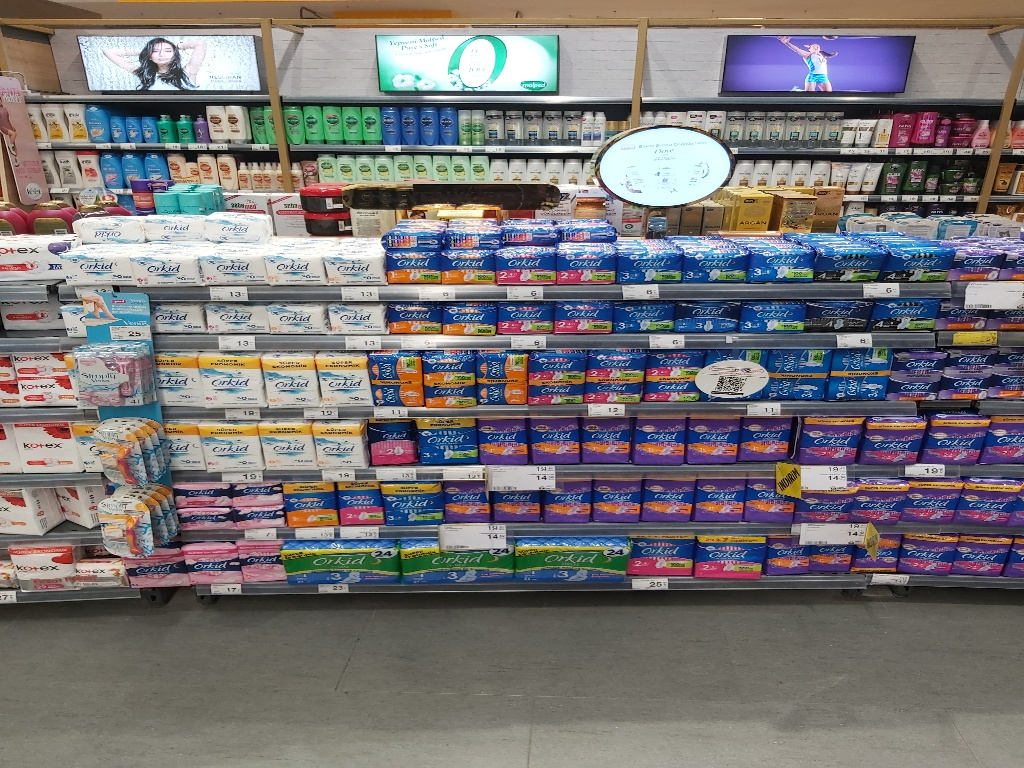urun: (276, 540, 394, 588), (399, 539, 517, 586), (504, 535, 622, 582), (69, 344, 151, 407), (78, 431, 160, 494), (87, 495, 169, 558), (200, 347, 266, 408), (312, 413, 370, 474), (410, 413, 476, 466), (630, 530, 696, 582), (698, 534, 764, 586), (314, 344, 372, 401), (260, 351, 319, 407), (884, 239, 959, 283), (611, 248, 685, 292), (740, 239, 814, 283), (812, 238, 886, 282), (865, 416, 931, 465), (259, 412, 320, 465), (924, 416, 989, 465), (676, 242, 750, 285), (200, 419, 261, 471), (792, 415, 858, 463), (904, 526, 959, 581), (960, 531, 1021, 580), (767, 536, 858, 568), (183, 531, 238, 582), (56, 248, 134, 283), (122, 243, 200, 278), (186, 244, 264, 279), (152, 355, 201, 410), (640, 340, 696, 388), (685, 416, 739, 465), (529, 343, 585, 390), (590, 342, 646, 389), (739, 417, 792, 466), (206, 296, 269, 337), (265, 289, 328, 330), (742, 293, 805, 334), (806, 296, 869, 337), (878, 291, 941, 332), (486, 476, 543, 521), (532, 477, 589, 522), (586, 477, 643, 522), (847, 472, 904, 517), (616, 291, 678, 332), (675, 293, 737, 334), (433, 479, 489, 524), (741, 475, 797, 520), (795, 472, 851, 517), (901, 477, 957, 522), (691, 474, 748, 518), (966, 474, 1023, 518), (387, 483, 443, 527), (635, 474, 691, 518), (494, 298, 552, 339), (554, 288, 612, 329), (581, 417, 635, 461), (159, 500, 228, 534), (388, 296, 445, 337), (443, 301, 500, 342), (474, 420, 527, 463), (529, 419, 582, 462), (634, 419, 687, 462), (161, 480, 230, 513), (159, 422, 201, 475), (315, 251, 379, 285), (380, 248, 442, 283), (221, 479, 283, 513), (552, 243, 611, 278), (493, 244, 552, 279), (442, 248, 500, 283), (326, 300, 387, 332), (369, 344, 420, 381), (276, 472, 334, 502), (280, 504, 338, 534), (227, 500, 284, 530), (765, 372, 833, 397), (329, 474, 387, 503), (334, 507, 392, 536), (415, 379, 477, 406), (470, 352, 532, 379), (470, 380, 532, 407), (374, 376, 426, 408), (416, 346, 468, 378), (828, 370, 896, 394), (148, 303, 202, 333)
urun2: (253, 248, 325, 288)
